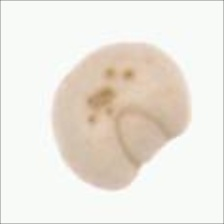L5: (113, 105, 171, 169)
L6: (50, 40, 194, 191)
